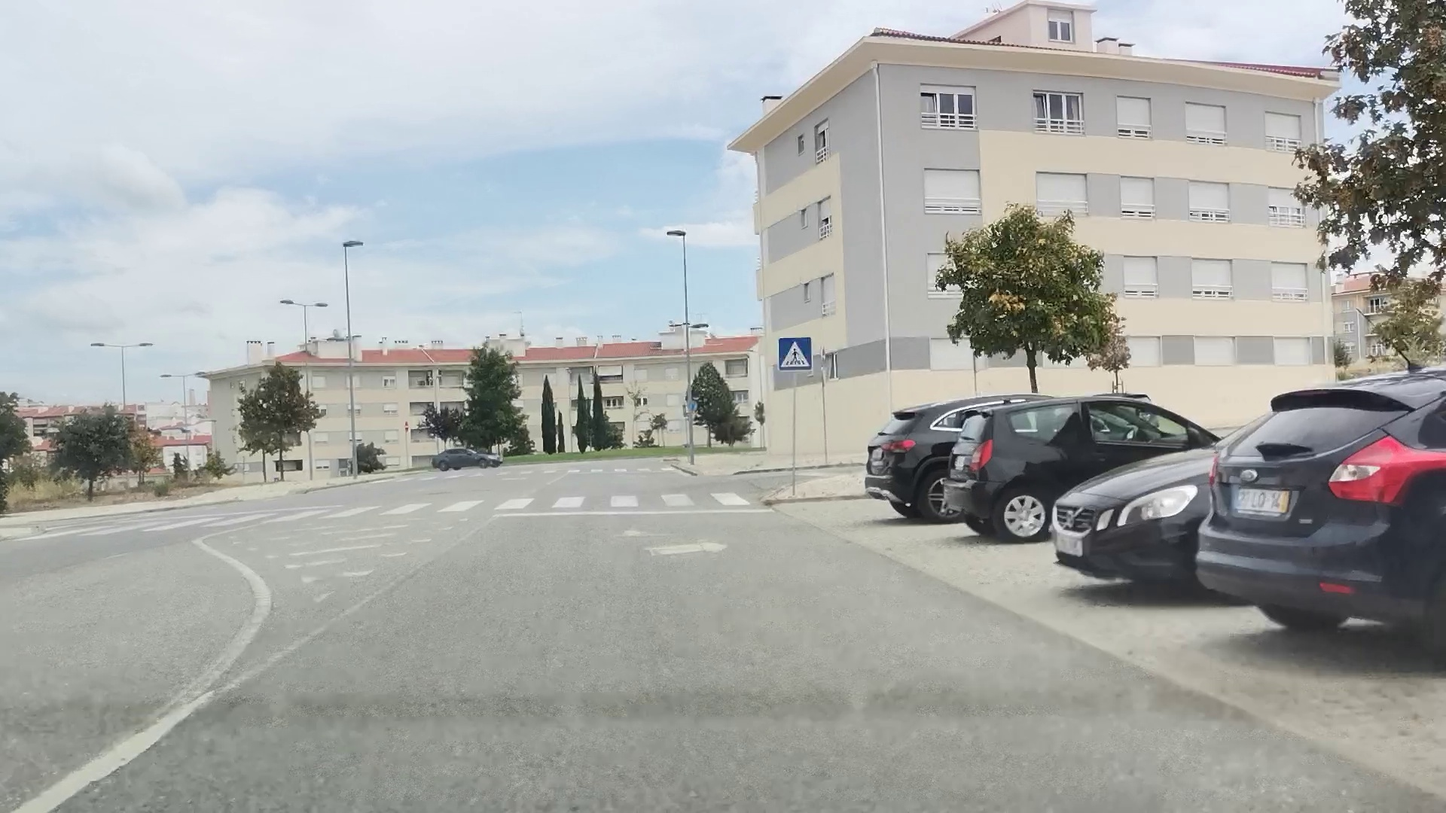Stairs: (0, 491, 759, 538)
